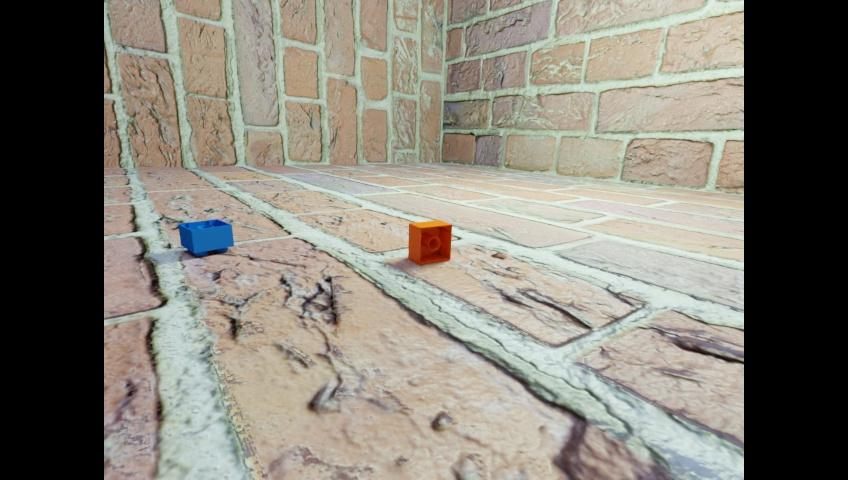2x2_blue: (178, 219, 233, 256)
2x2_orange: (408, 219, 451, 264)
